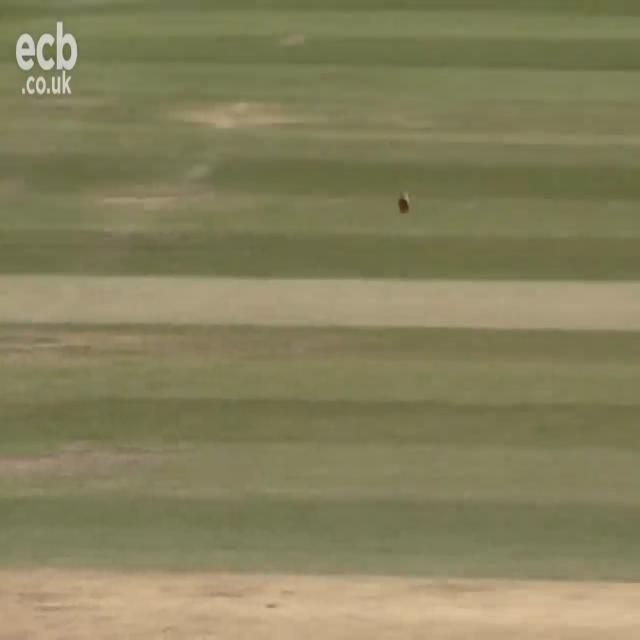ball: (394, 187, 416, 219)
